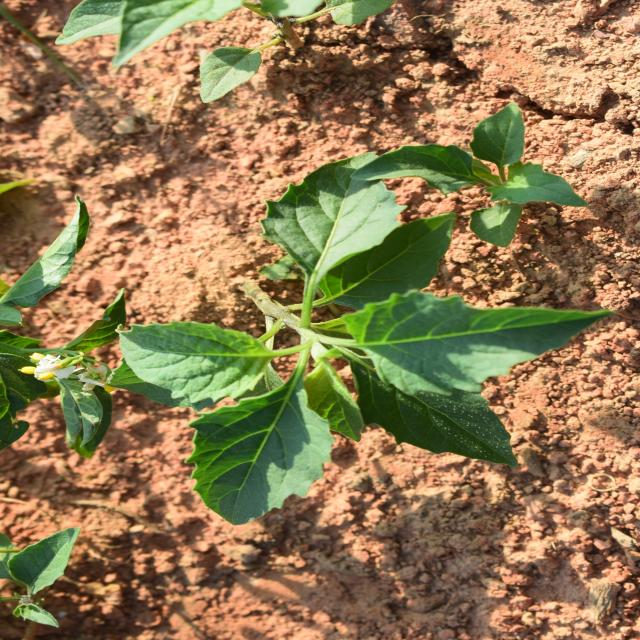Black_nightshade: (140, 139, 468, 569), (409, 379, 543, 576)
